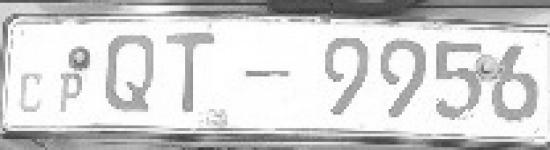-: (245, 67, 291, 82)
5: (433, 38, 486, 125)
6: (490, 40, 544, 126)
9: (320, 33, 376, 117), (379, 36, 428, 120)
C: (19, 70, 45, 115), (56, 70, 83, 111)
Q: (101, 31, 160, 116)
T: (163, 32, 218, 114)
